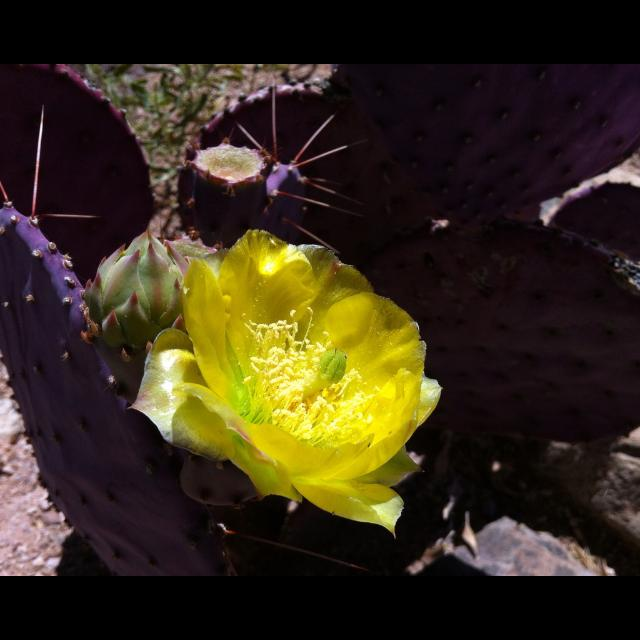Flower: (151, 191, 445, 527)
